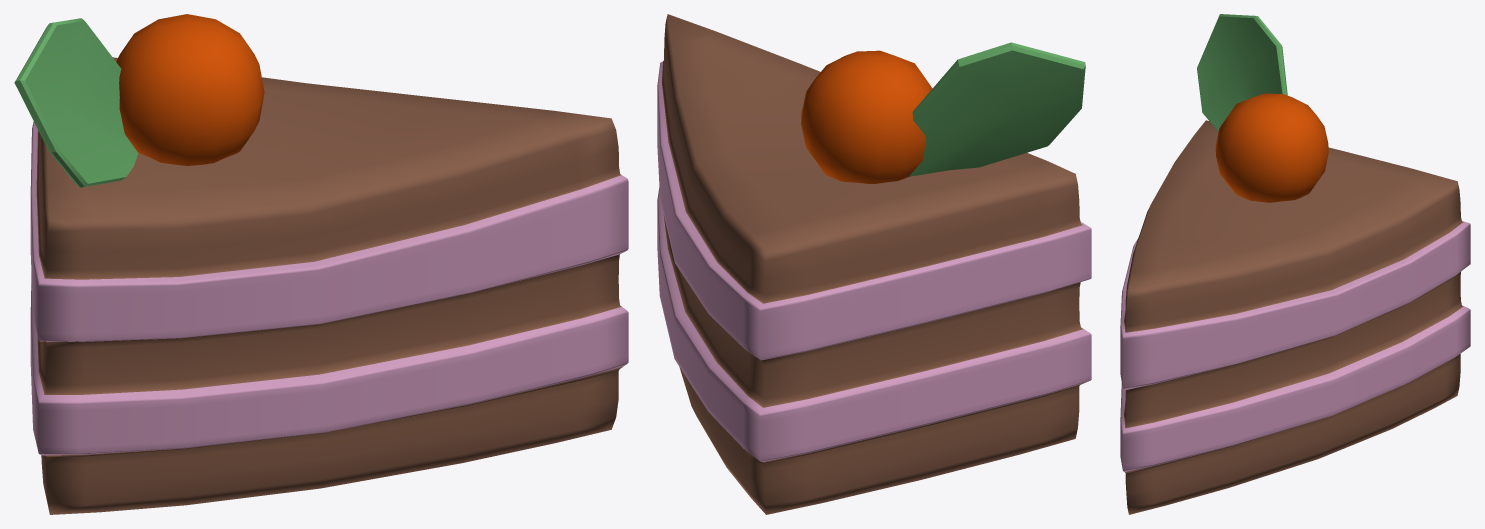
File: cherryCake02.dae
The picture shows the model from 3 angles, left to right: view 1: azimuth 30°, elevation 25°; view 2: azimuth 150°, elevation 25°; view 3: azimuth 270°, elevation 25°; orthographic projection. The views are drawn at different scales.
Parts seen in each view (by area): view 1: cherryCake; view 2: cherryCake; view 3: cherryCake.
Boxes of the visible parts, x1,y1,x2,y2 form: cherryCake: (14, 14, 628, 514); cherryCake: (657, 14, 1091, 514); cherryCake: (1120, 14, 1470, 514).
Size of the model in its own units: 51.08 by 41.93 by 39.26.
